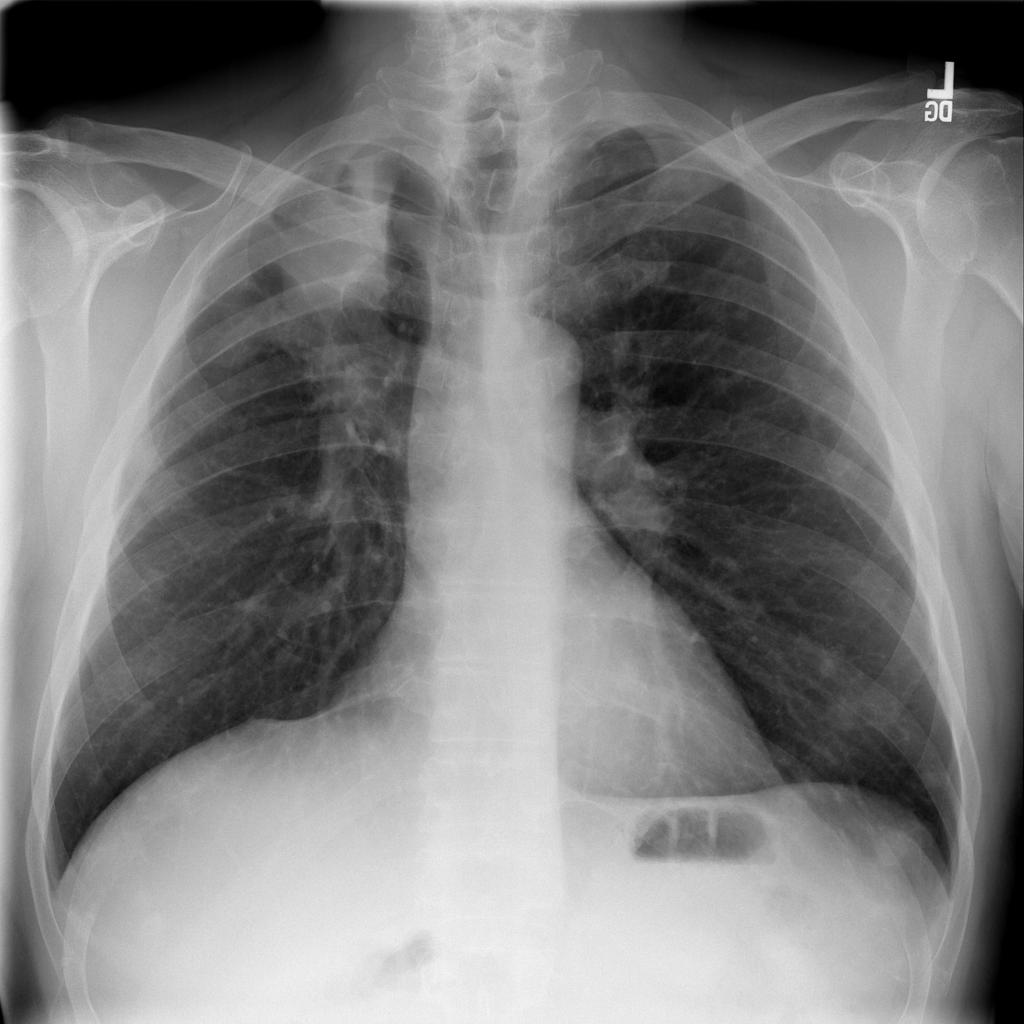nodule: (190, 306, 277, 377), (854, 812, 936, 884), (797, 632, 866, 707), (898, 737, 969, 808), (115, 549, 187, 617), (719, 287, 771, 336)
